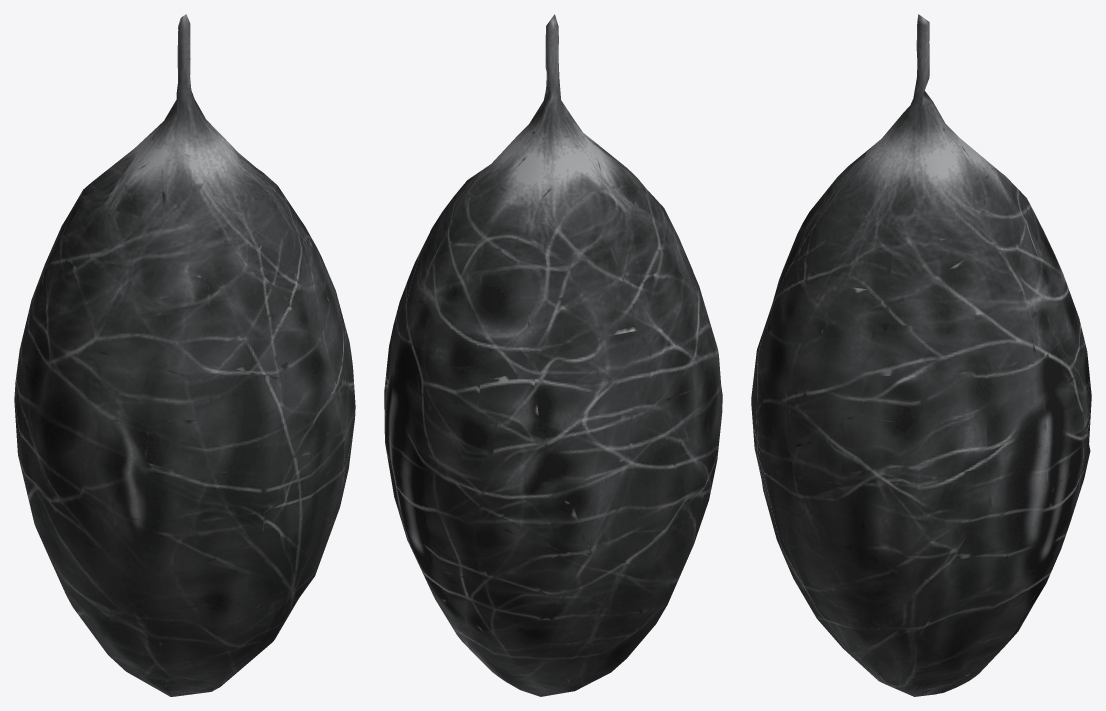
File: web_cocoon.glb
The picture shows the model from 3 angles, left to right: view 1: azimuth 30°, elevation 25°; view 2: azimuth 150°, elevation 25°; view 3: azimuth 270°, elevation 25°; orthographic projection.
Size of the model in its own units: 0.903 by 1.99 by 0.9061.
1 material, 1 textured.
